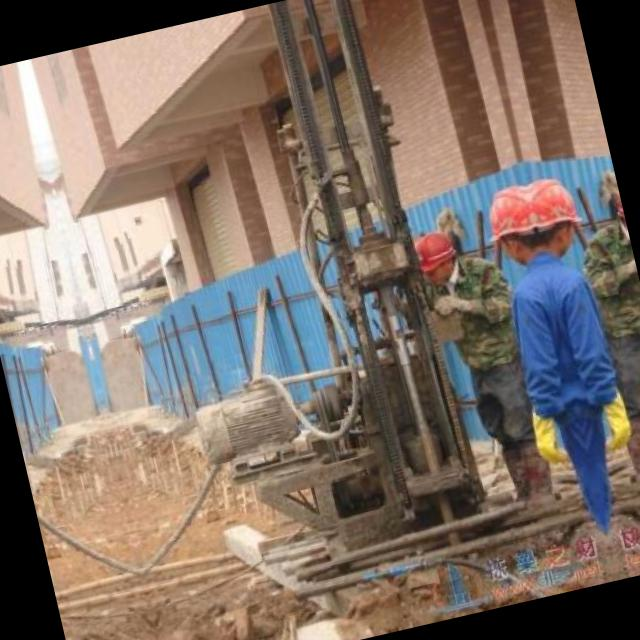helmet: (478, 178, 540, 270), (524, 168, 584, 260), (410, 225, 460, 289)
